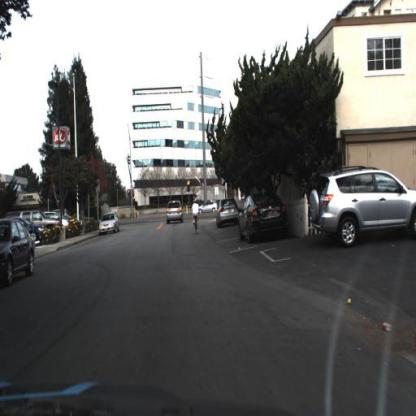biker: (193, 202, 201, 237)
car: (307, 163, 416, 249), (238, 190, 293, 243), (1, 218, 37, 288), (21, 210, 61, 240), (217, 198, 239, 229), (100, 215, 121, 236), (168, 201, 184, 224), (198, 201, 218, 215)
trafficLight-Red: (186, 180, 191, 194)
